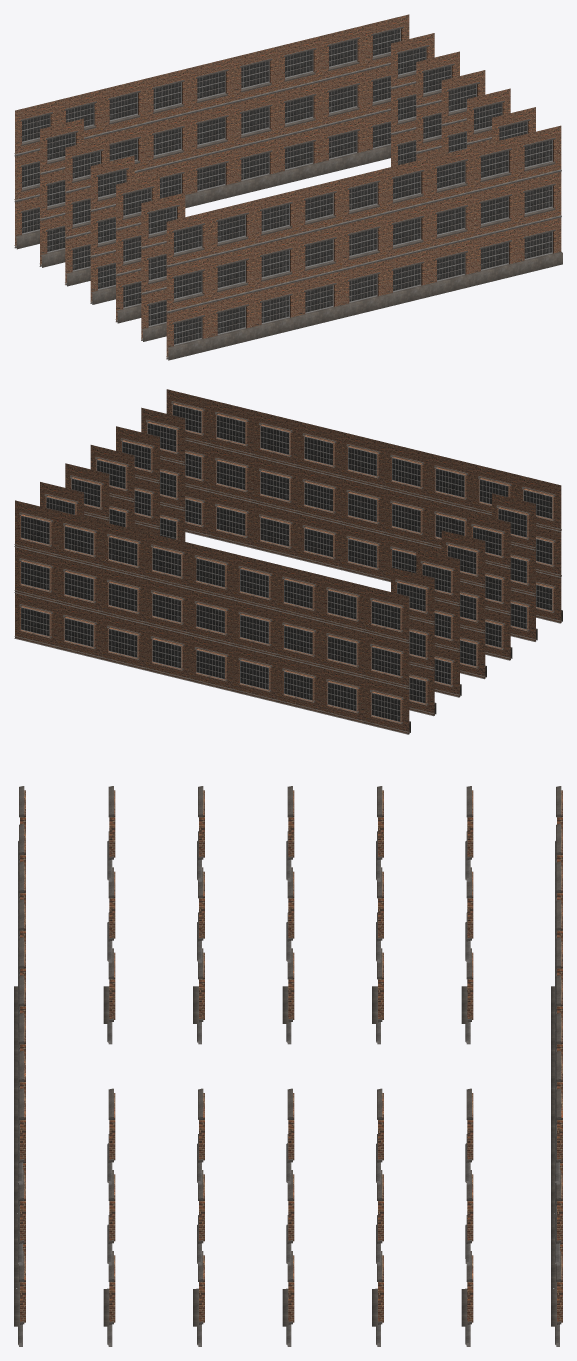
The model's file is factory_building.glb.
3 renders of one model, top to bottom at view 1: azimuth 30°, elevation 25°; view 2: azimuth 150°, elevation 25°; view 3: azimuth 270°, elevation 25°, orthographic. The views are drawn at different scales.
Visible parts, largest first — view 1: FactoryFacade; view 2: FactoryFacade; view 3: FactoryFacade.
Boxes of the visible parts, left/top/right/bottom form: FactoryFacade: left=14, top=14, right=562, bottom=360; FactoryFacade: left=14, top=389, right=562, bottom=734; FactoryFacade: left=14, top=786, right=562, bottom=1346.
Size of the model in its own units: 27 by 9 by 18.4.
Materials: 4 (4 with a texture image).
